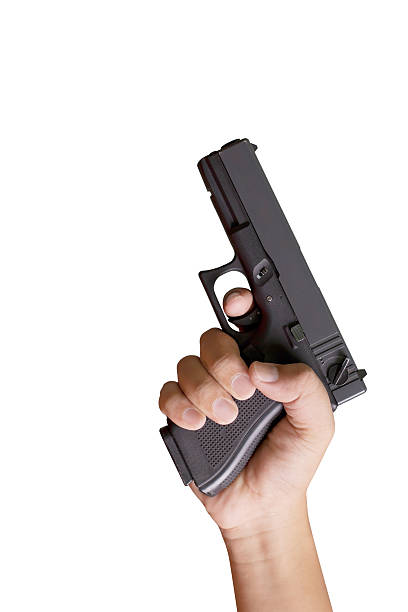pistol: (143, 106, 393, 580)
